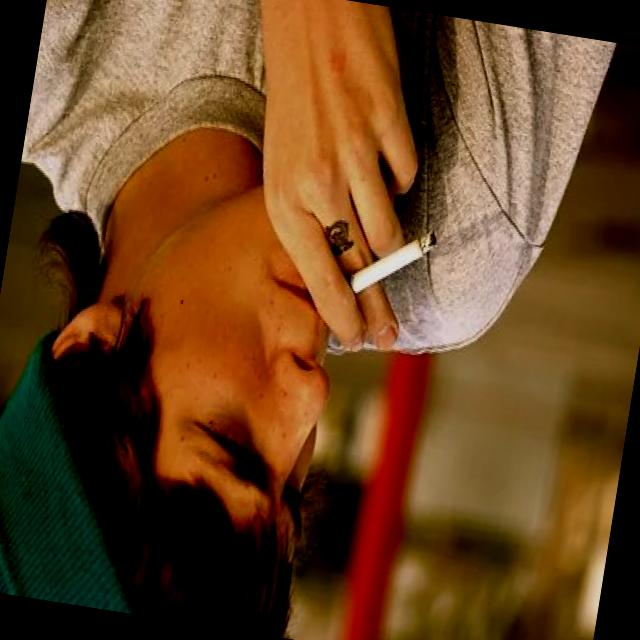smoke: (344, 210, 442, 306)
